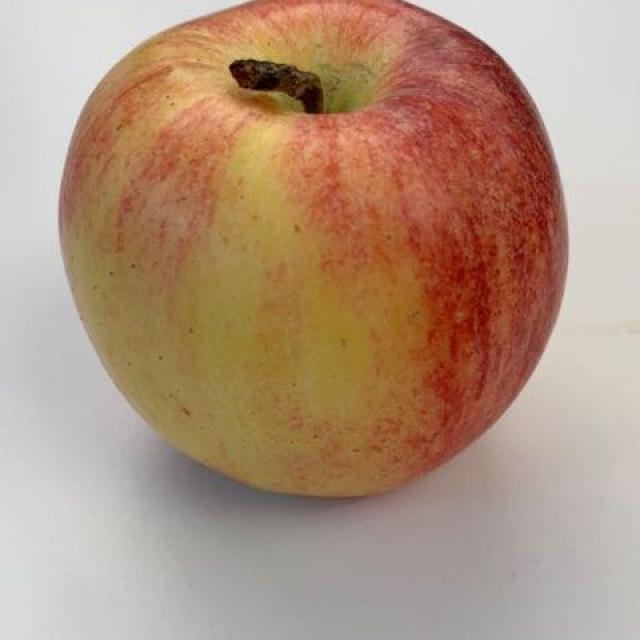Apple: (41, 0, 582, 502)
